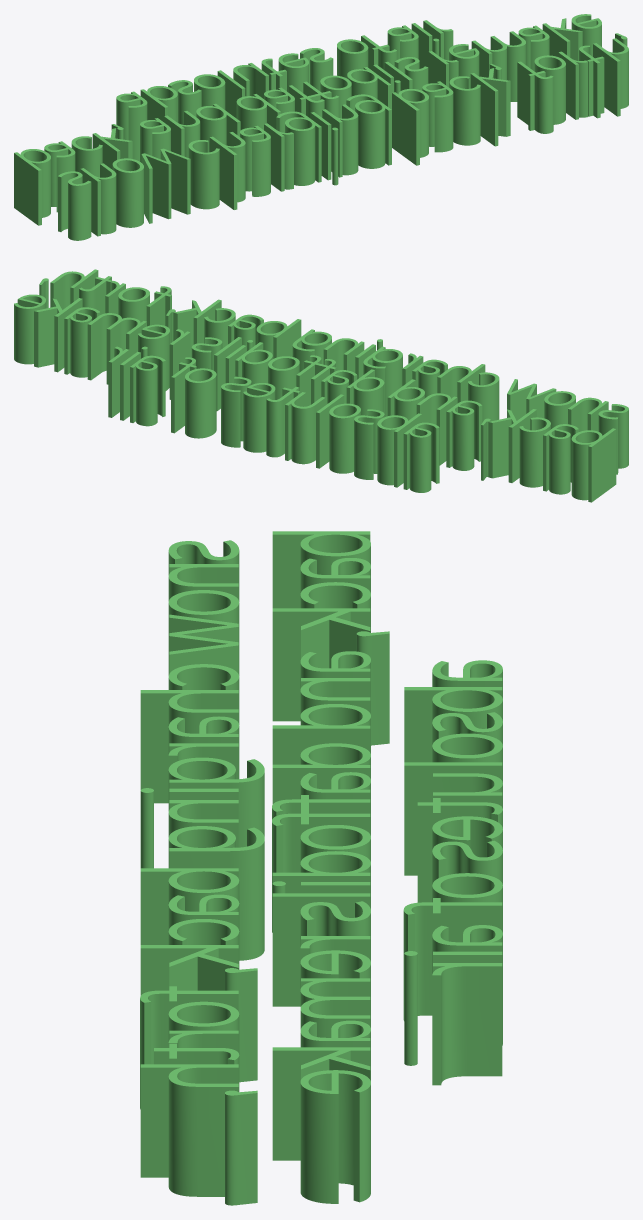
File: snowhaiku2.obj
The picture shows the model from 3 angles, top to bottom: view 1: azimuth 30°, elevation 25°; view 2: azimuth 150°, elevation 25°; view 3: azimuth 270°, elevation 25°; orthographic projection. The views are drawn at different scales.
Visible parts, largest first — view 1: 040_w, 014_b, 049_b, 048_g, 045_g, 054_f, 037_s, 052_k, 041_c, 039_o, 042_h, 033_m (+45 smaller); view 2: 014_b, 033_m, 000_a, 011_a, 019_a, 017_k, 009_o, 035_k, 005_u, 001_b, 015_a, 003_o (+46 smaller); view 3: 058_h, 036_e, 013_r, 017_k, 048_g, 042_h, 035_k, 010_f, 014_b, 049_b, 001_b, 029_l (+48 smaller).
Part boxes in pixels (<box>): 040_w: <box>141,148,190,223</box>; 014_b: <box>14,149,50,225</box>; 049_b: <box>392,89,428,165</box>; 048_g: <box>346,94,391,168</box>; 045_g: <box>276,111,321,185</box>; 054_f: <box>517,61,553,133</box>; 037_s: <box>58,171,91,240</box>; 052_k: <box>470,68,510,146</box>; 041_c: <box>188,140,219,209</box>; 039_o: <box>112,158,143,227</box>; 042_h: <box>209,132,245,209</box>; 033_m: <box>471,31,526,101</box>; 014_b: <box>571,428,616,502</box>; 033_m: <box>87,313,146,384</box>; 000_a: <box>403,422,439,492</box>; 011_a: <box>130,355,165,426</box>; 019_a: <box>446,400,482,470</box>; 017_k: <box>488,409,536,482</box>; 009_o: <box>185,368,216,438</box>; 035_k: <box>34,298,82,372</box>; 005_u: <box>285,392,325,464</box>; 001_b: <box>377,413,421,487</box>; 015_a: <box>543,424,578,494</box>; 003_o: <box>329,403,360,473</box>; 058_h: <box>140,1064,238,1196</box>; 036_e: <box>300,1070,370,1203</box>; 013_r: <box>432,963,502,1085</box>; 017_k: <box>272,608,370,721</box>; 048_g: <box>168,826,264,960</box>; 042_h: <box>140,690,238,803</box>; 035_k: <box>272,1047,370,1160</box>; 010_f: <box>403,898,502,1020</box>; 014_b: <box>272,531,370,608</box>; 049_b: <box>140,868,239,944</box>; 001_b: <box>404,687,502,762</box>; 029_l: <box>272,893,370,1006</box>.
Size of the model in its own units: 143 by 12.97 by 38.79.
